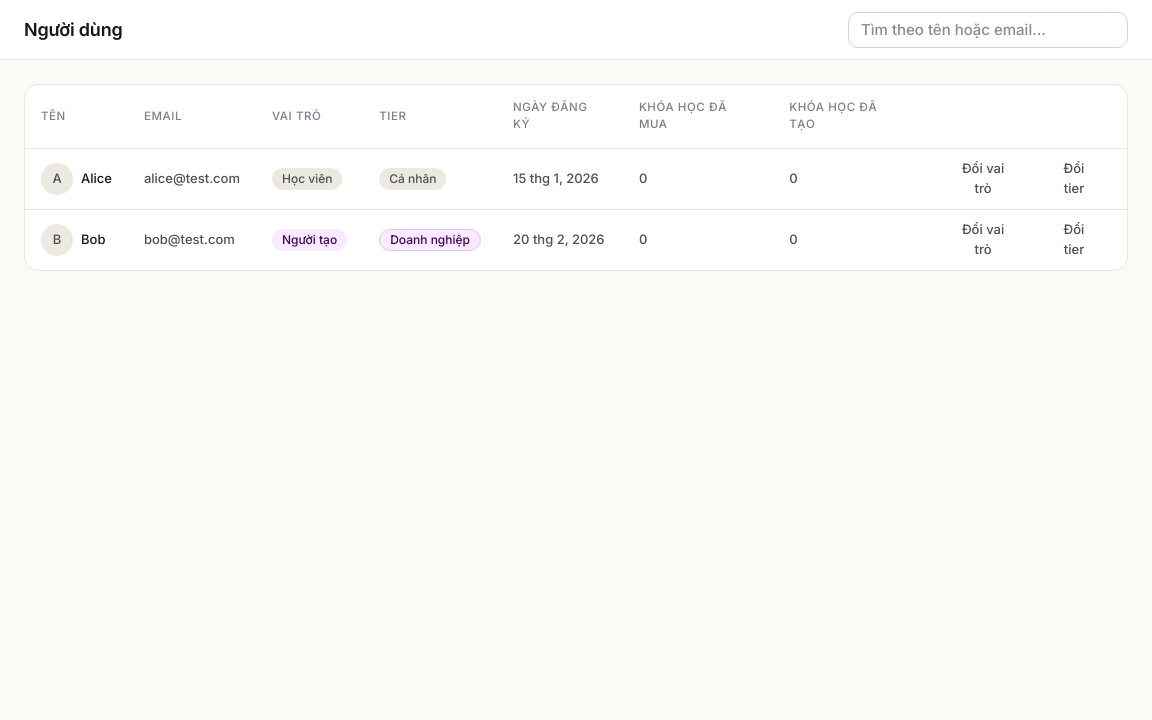
Test: AdminUsersPage › tier change › opens tier change dialog when button clicked
The image size is (1152, 720).
Check: the text "Alice" is shown, box [81,169,112,188]
Click the button with test id "change-tier-btn-u1" at (1074, 178), box [1037,162,1111,194]
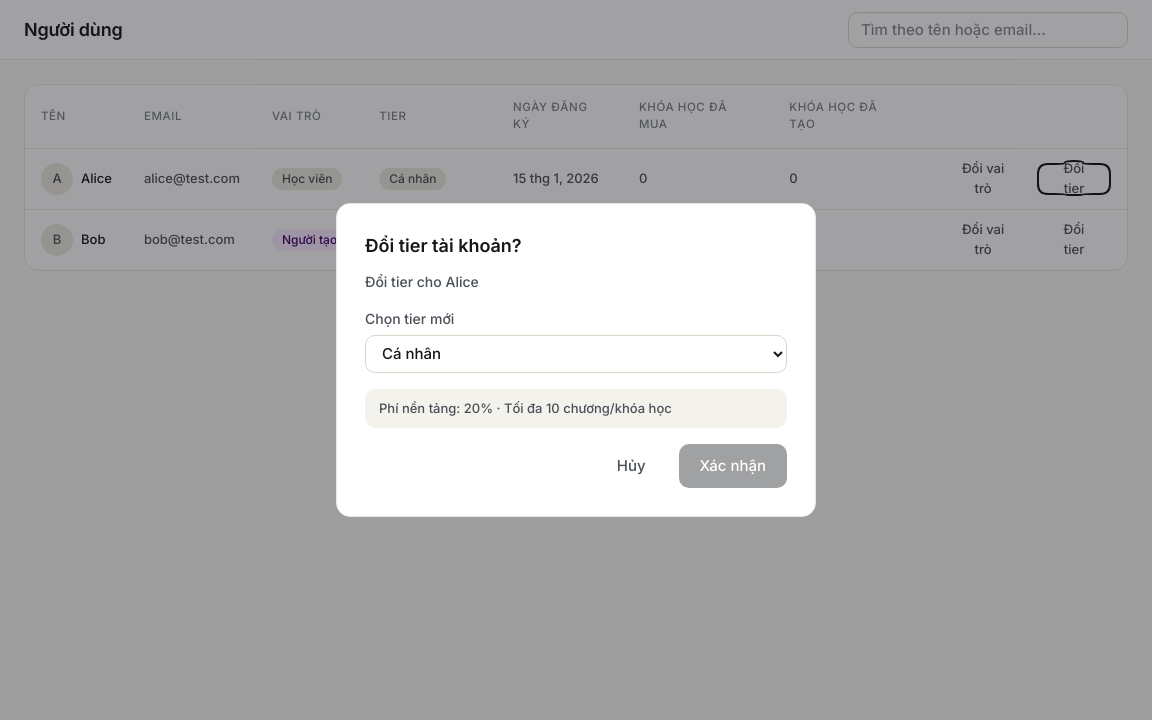
Check: the element with test id "tier-change-dialog" is shown, box [336,203,816,517]
